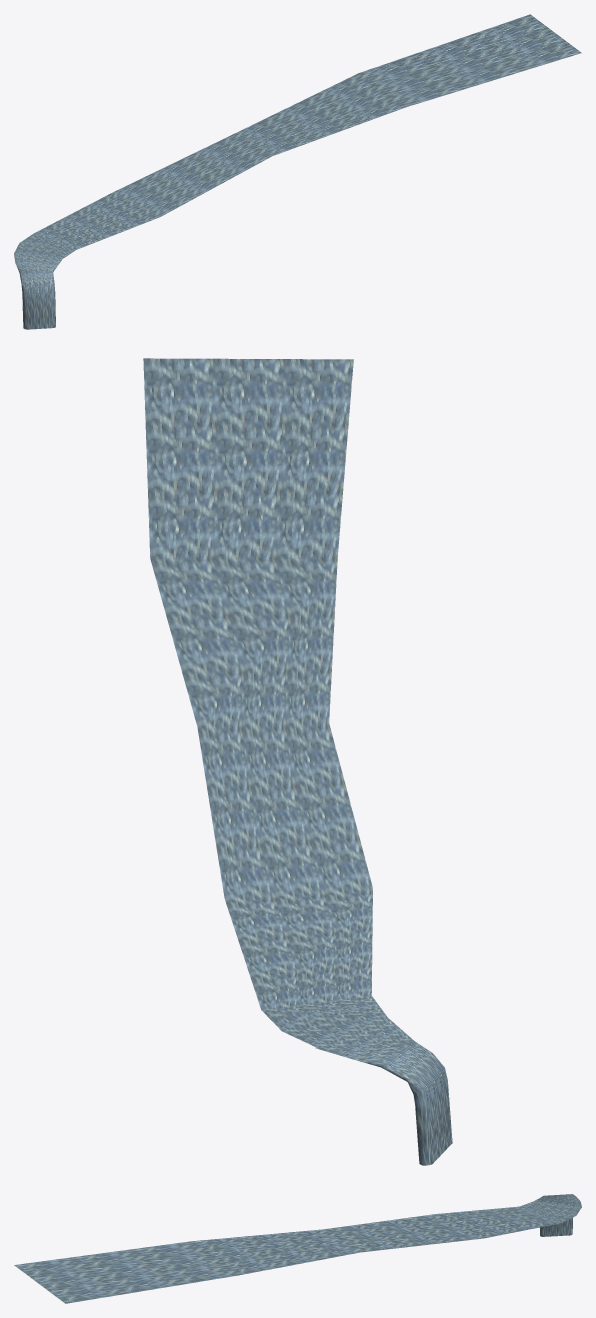
The model's file is Waterfall_upper.FBX.
3 renders of one model, top to bottom at view 1: azimuth 90°, elevation 25°; view 2: azimuth 150°, elevation 25°; view 3: azimuth 270°, elevation 25°, orthographic. The views are drawn at different scales.
Visible parts, largest first — view 1: Waterfall_upper; view 2: Waterfall_upper; view 3: Waterfall_upper.
Part boxes in pixels (x1=…): Waterfall_upper: x1=14, y1=14, x2=581, y2=329; Waterfall_upper: x1=143, y1=358, x2=452, y2=1165; Waterfall_upper: x1=14, y1=1194, x2=581, y2=1303.
Size of the model in its own units: 267 by 78.55 by 331.
1 material, 1 textured.
